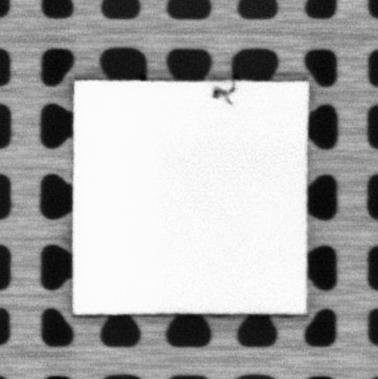DIE_INK: (210, 82, 237, 105)
